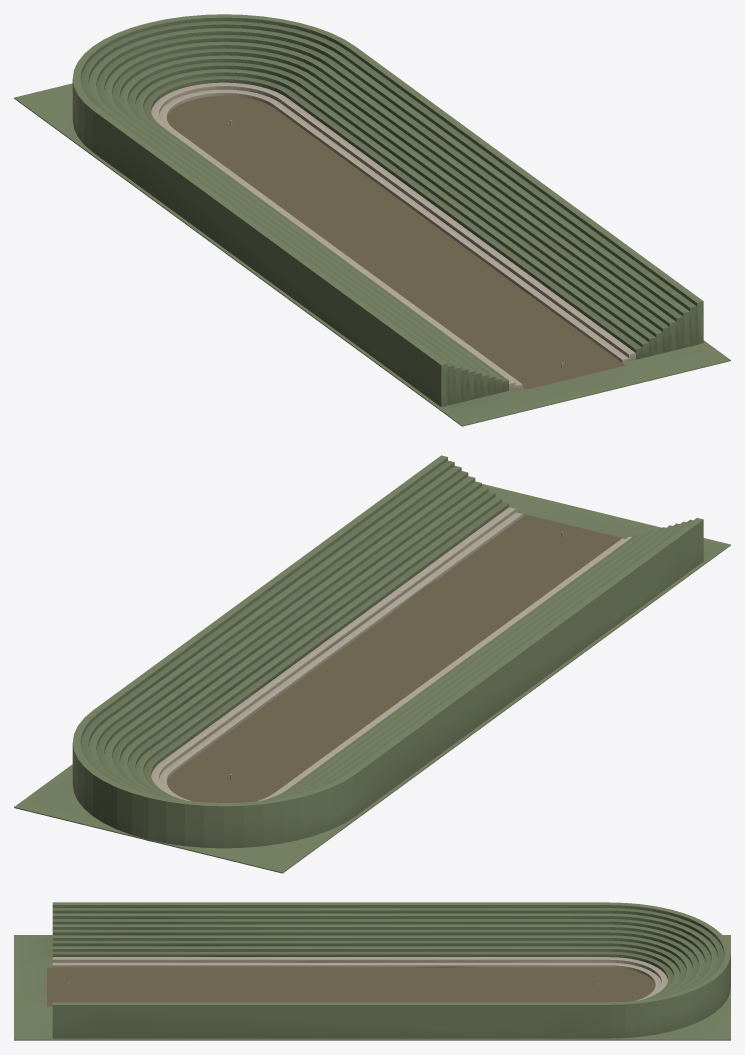
Rendered from stadium-lycurgan.glb.
The picture shows the model from 3 angles, top to bottom: view 1: azimuth 30°, elevation 25°; view 2: azimuth 150°, elevation 25°; view 3: azimuth 270°, elevation 25°; orthographic projection. The views are drawn at different scales.
Parts seen in each view (by area): view 1: p2_upper seats, p0_ground, p1_seats; view 2: p2_upper seats, p0_ground, p1_seats; view 3: p2_upper seats, p0_ground, p1_seats.
Part boxes in pixels (x1,y1,x2,y2): p2_upper seats: (72,14,703,407); p0_ground: (14,83,730,426); p1_seats: (120,55,662,397); p2_upper seats: (72,455,703,848); p0_ground: (14,484,730,873); p1_seats: (120,486,658,801); p2_upper seats: (52,902,730,1038); p0_ground: (14,935,730,1040); p1_seats: (52,935,692,1000).
Bounding box in the file's own units: 90 × 13.86 × 260.
